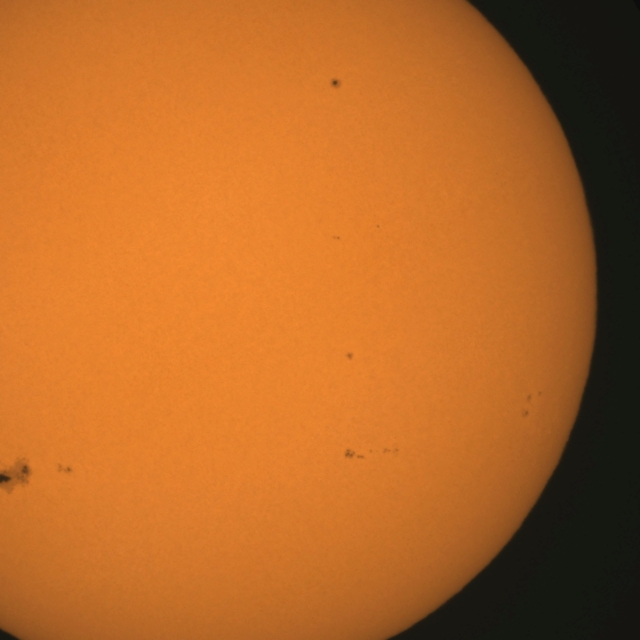sunspot: (0, 456, 33, 497), (522, 388, 542, 417), (358, 446, 398, 457), (343, 448, 369, 460), (55, 463, 74, 476), (526, 390, 542, 403), (382, 447, 400, 456), (330, 77, 342, 90), (345, 351, 355, 362), (521, 408, 530, 419), (331, 234, 342, 242), (375, 223, 380, 229)
